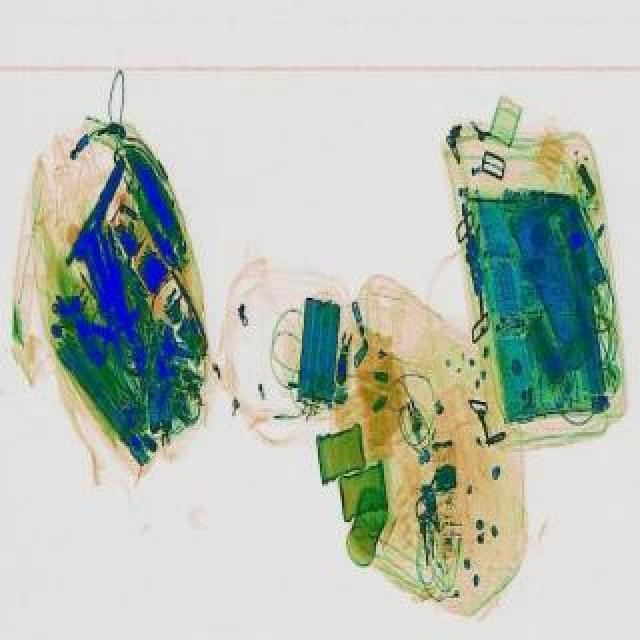wrench: (64, 152, 128, 264)
